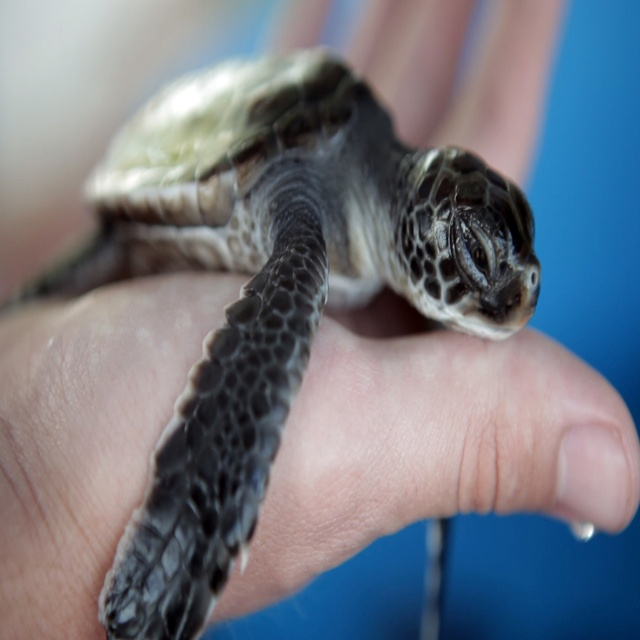Sea turtle: (0, 38, 540, 639)
